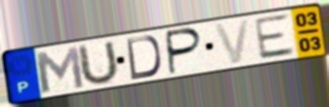D: (125, 34, 164, 82)
E: (252, 12, 297, 62)
M: (32, 44, 87, 95)
P: (165, 26, 205, 77)
U: (77, 39, 121, 89)
V: (212, 17, 253, 66)
